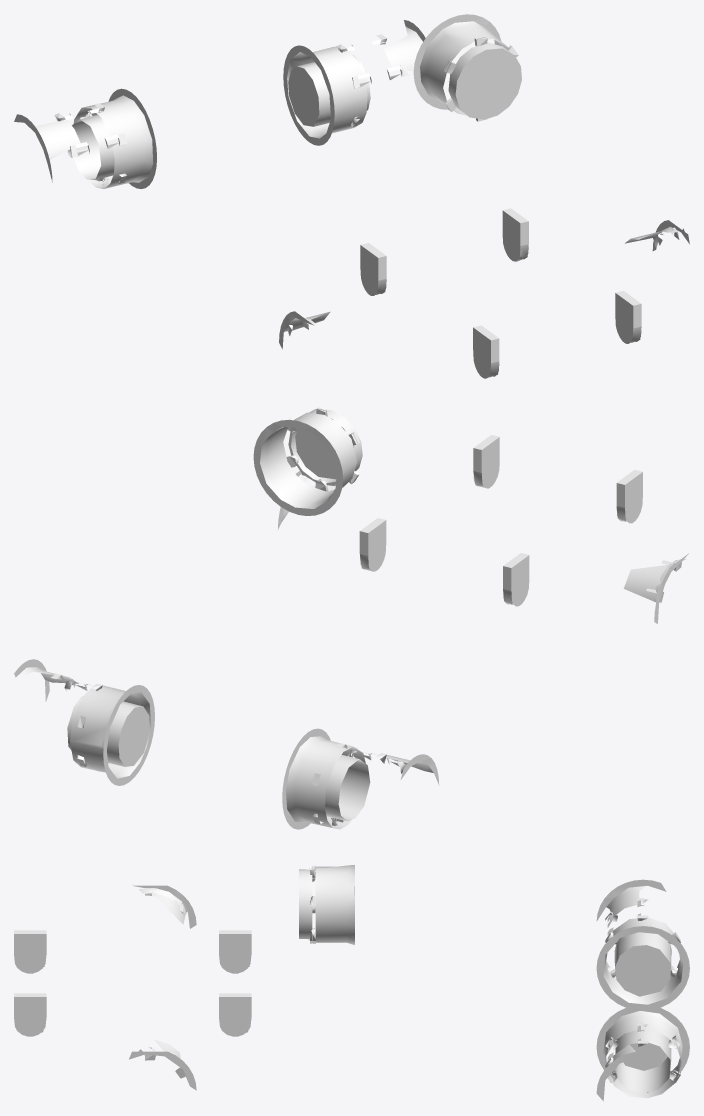
The picture shows the model from 3 angles, top to bottom: view 1: azimuth 30°, elevation 25°; view 2: azimuth 150°, elevation 25°; view 3: azimuth 270°, elevation 25°; orthographic projection. The views are drawn at different scales.
Bounding box in the file's own units: 3.08 × 1.86 × 5.12.
Materials: 1 (1 with a texture image).
